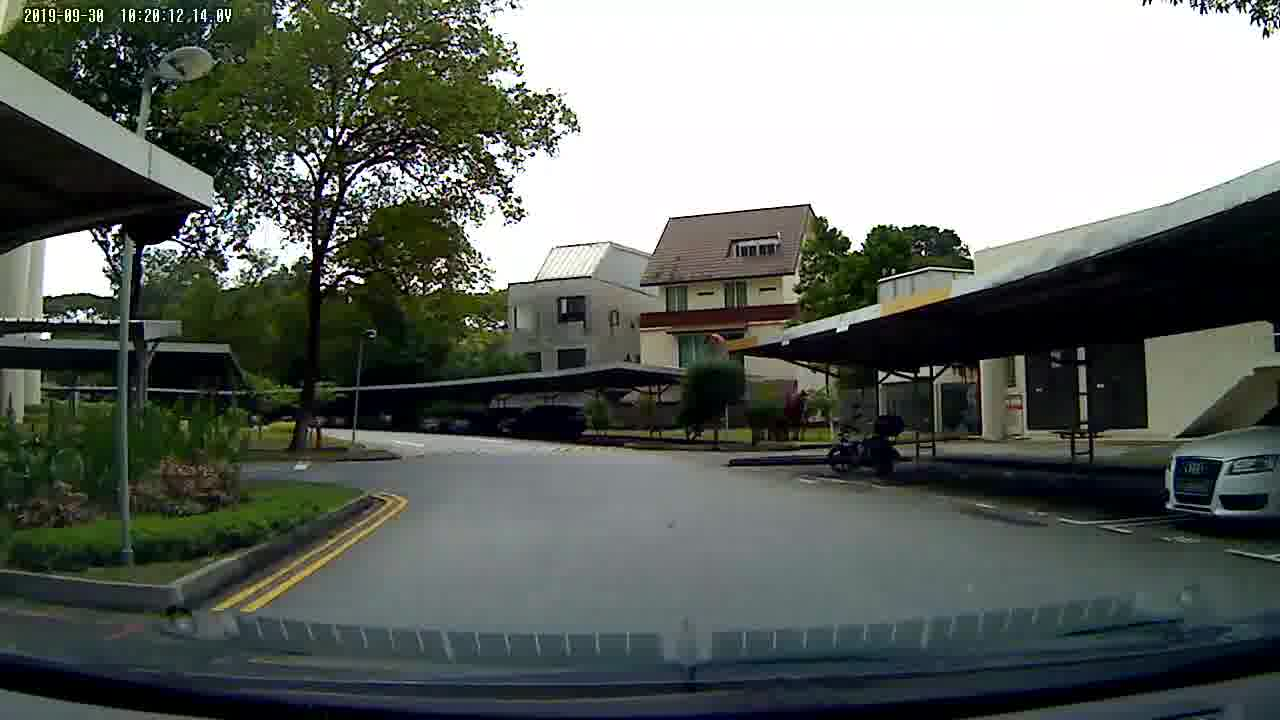car: (1156, 395, 1280, 528)
